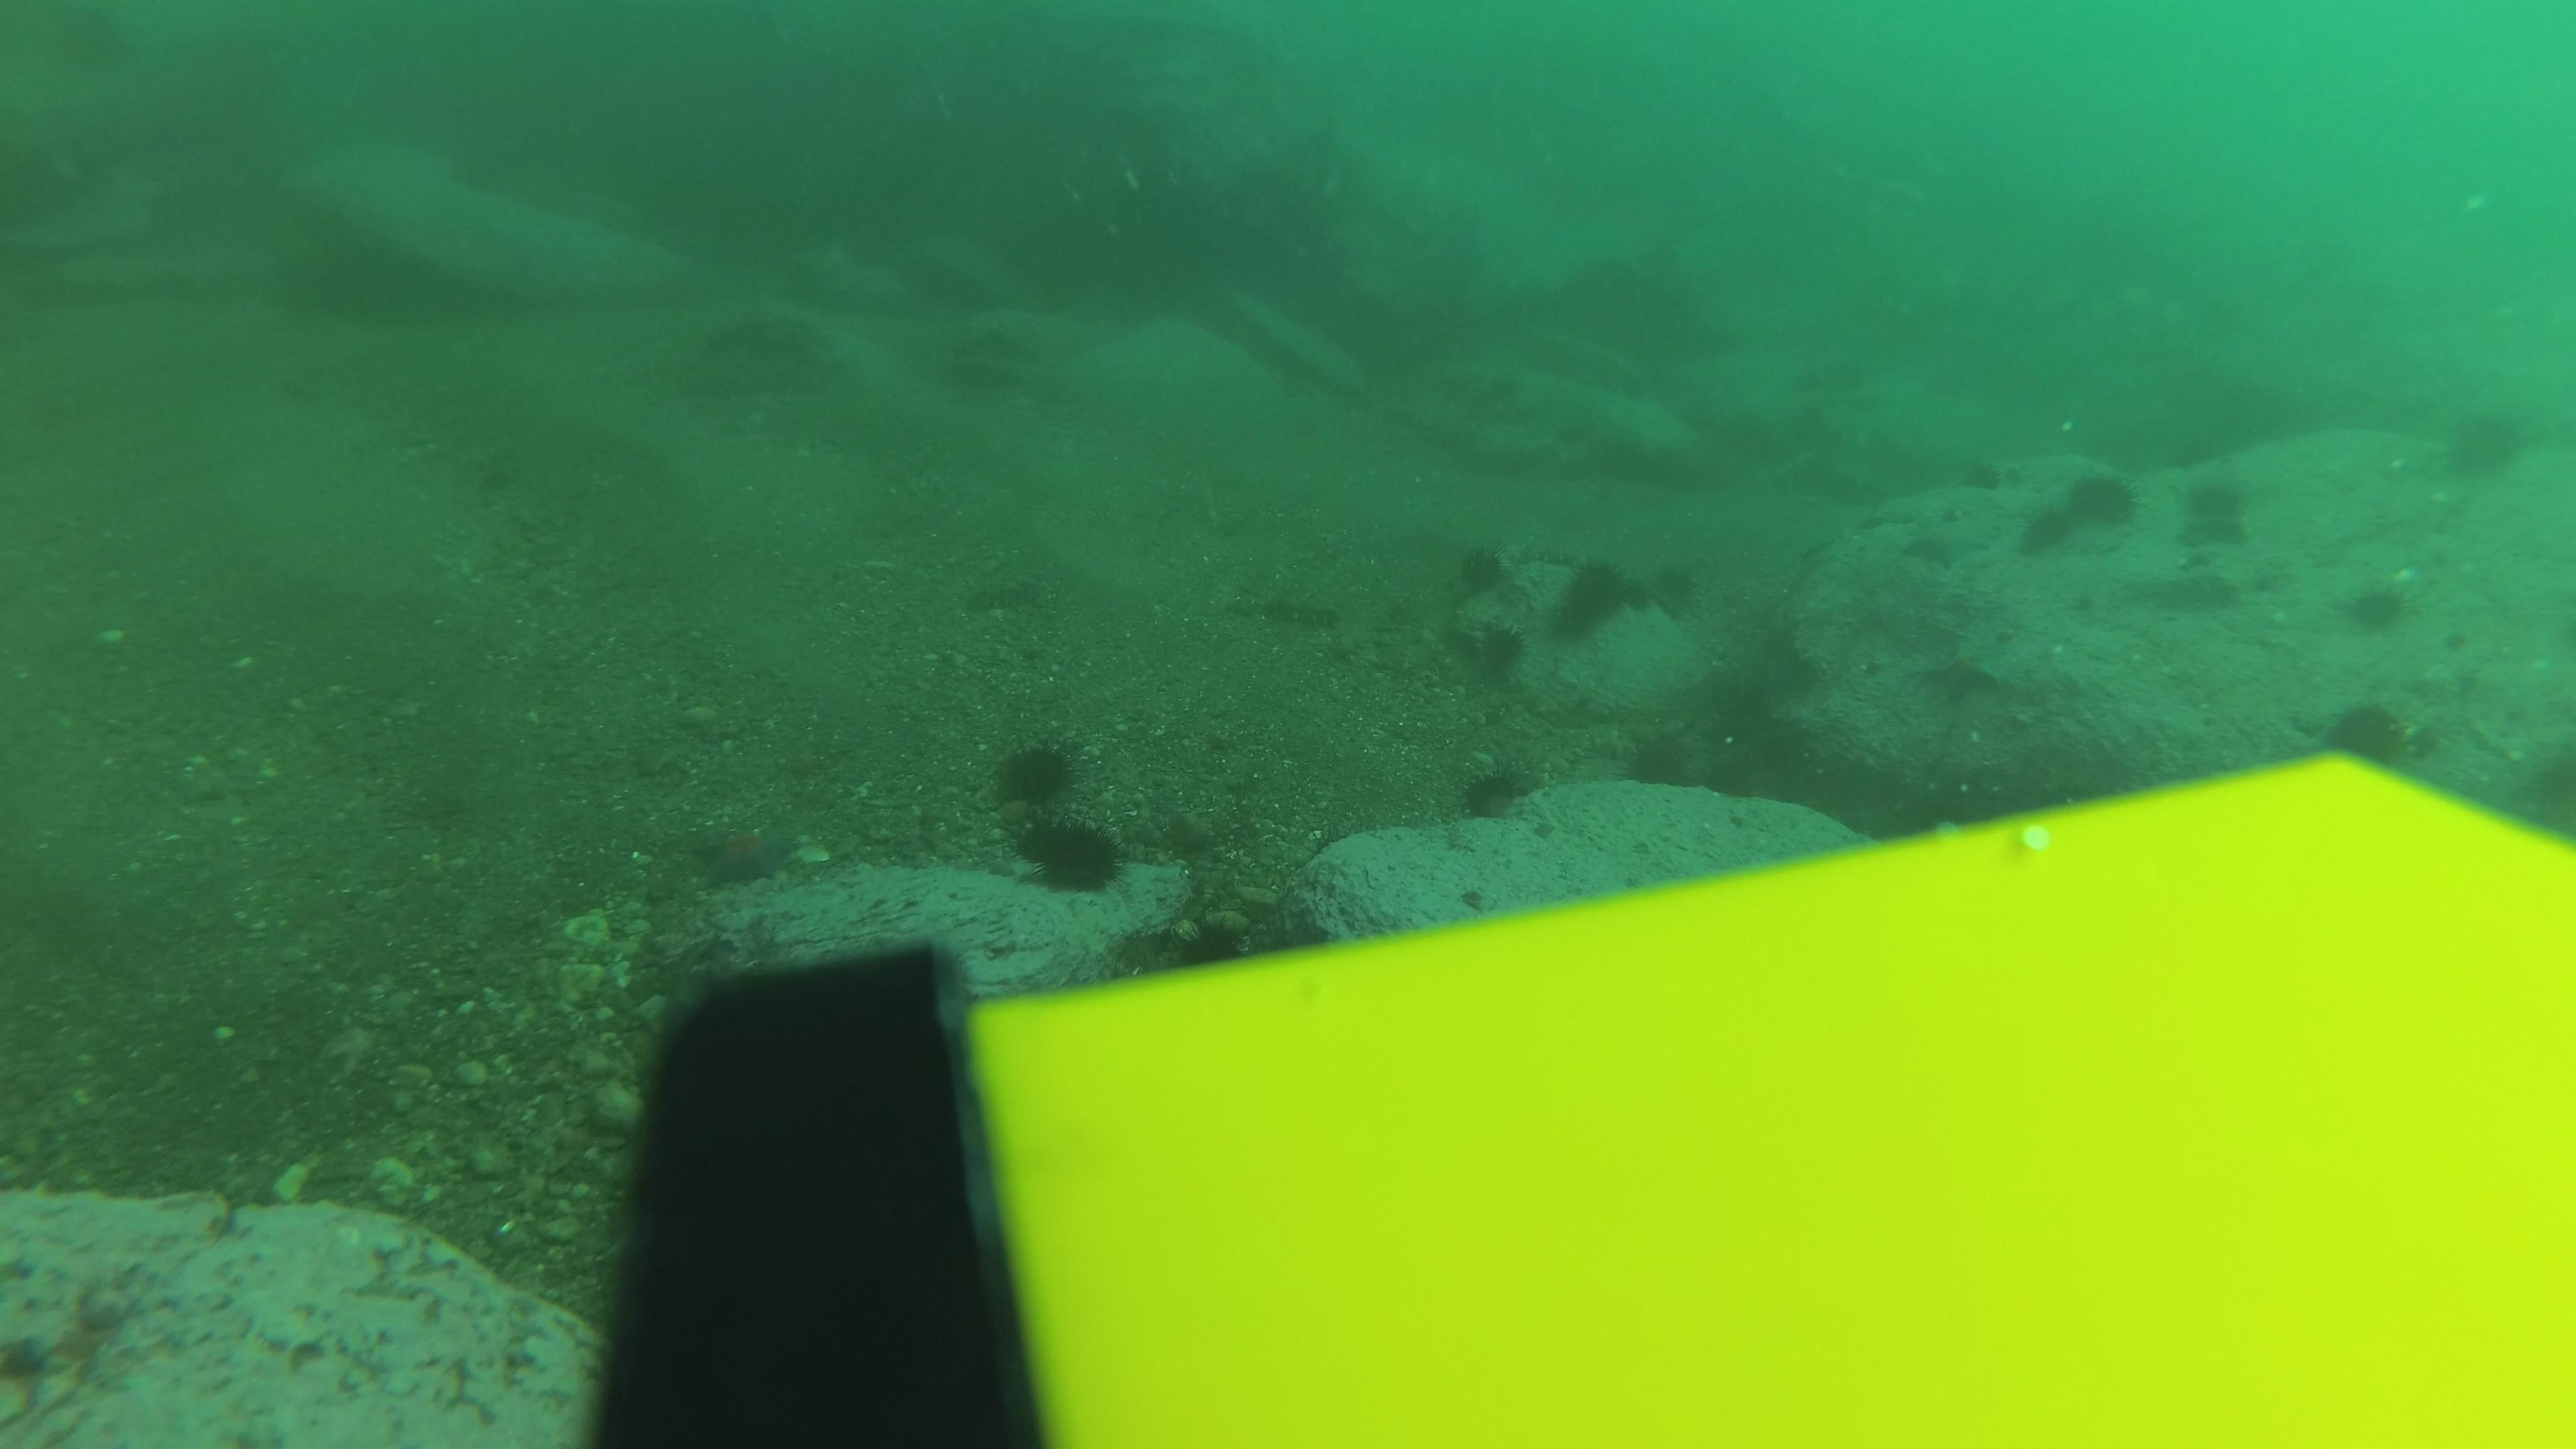echinus: (1010, 803, 1127, 897), (2307, 694, 2424, 775), (2434, 396, 2534, 485), (1546, 552, 1645, 640), (938, 322, 1039, 400), (989, 731, 1083, 812), (2173, 471, 2259, 552), (1451, 754, 1537, 824), (2015, 487, 2097, 561), (1617, 725, 1697, 794), (2063, 467, 2146, 533), (1453, 616, 1529, 686), (2339, 573, 2415, 639), (1449, 536, 1514, 600), (1640, 557, 1704, 621), (1950, 453, 2008, 501)
starfish: (688, 817, 809, 892), (1914, 649, 1999, 708), (1898, 520, 1980, 571)
